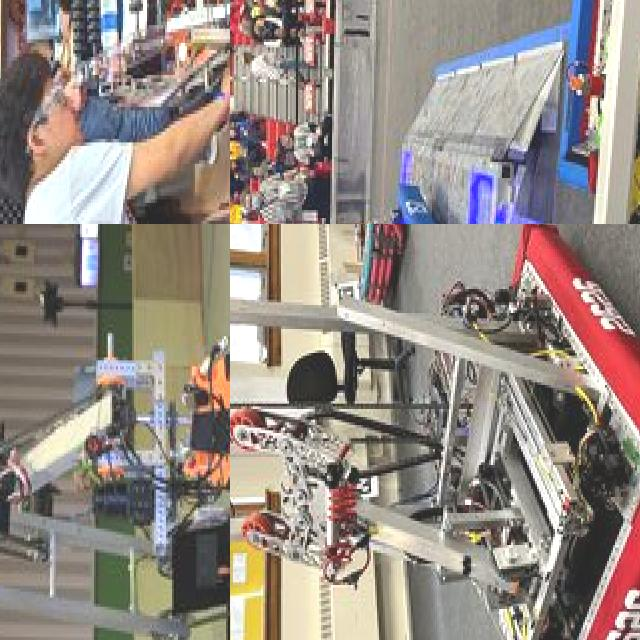FRC-Robots: (230, 224, 640, 640), (0, 227, 230, 640), (14, 0, 230, 205), (230, 35, 448, 224), (529, 0, 640, 203)
